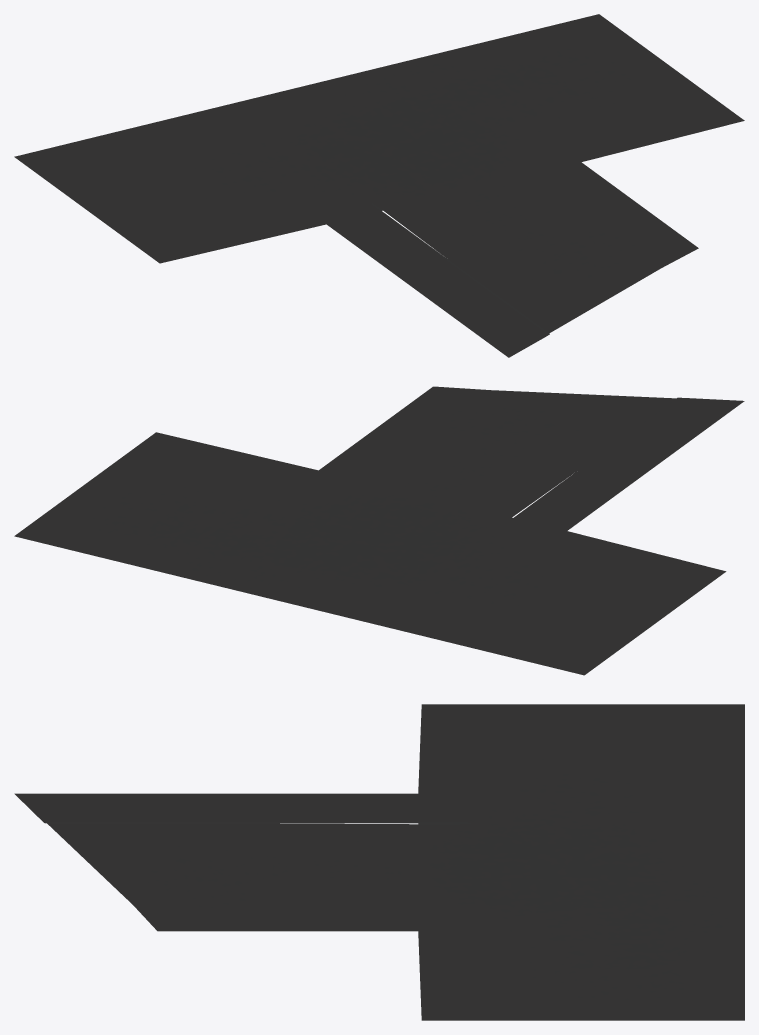
Rendered from T_Road_Slant_Connect_Short.fbx.
The picture shows the model from 3 angles, top to bottom: view 1: azimuth 30°, elevation 25°; view 2: azimuth 150°, elevation 25°; view 3: azimuth 270°, elevation 25°; orthographic projection. The views are drawn at different scales.
Visible parts, largest first — view 1: T_Road_Short001; view 2: T_Road_Short001; view 3: T_Road_Short001.
Part boxes in pixels (box(x1,y1,x2,y2)): T_Road_Short001: box(14, 14, 744, 357); T_Road_Short001: box(14, 386, 744, 675); T_Road_Short001: box(14, 704, 744, 1020).
Bounding box in the file's own units: 1300 × 1269 × 0.0568.
